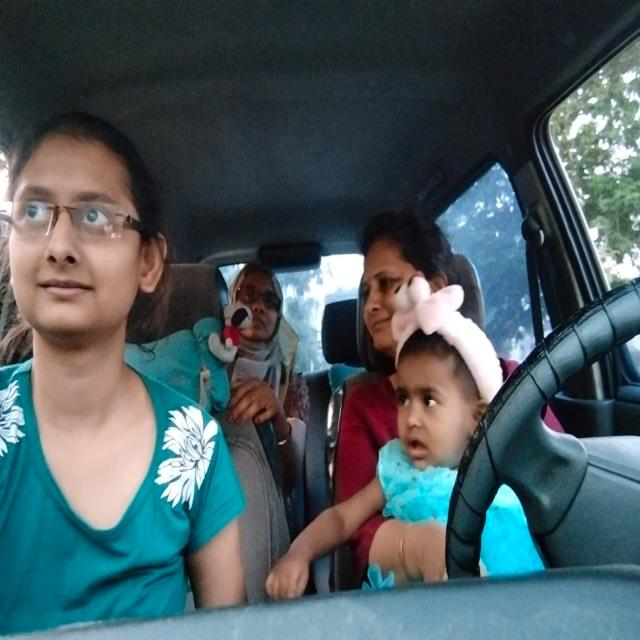child: (385, 330, 475, 475)
person: (0, 112, 173, 353), (360, 208, 457, 350), (230, 260, 293, 352)
